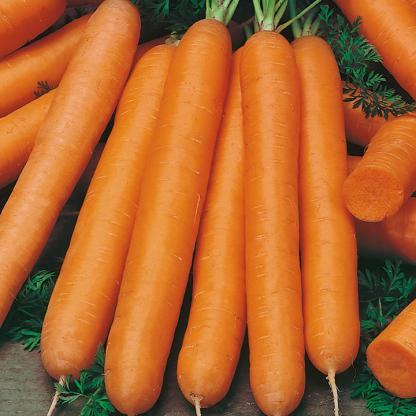--: (106, 1, 239, 414), (0, 0, 145, 329), (239, 24, 318, 416)
